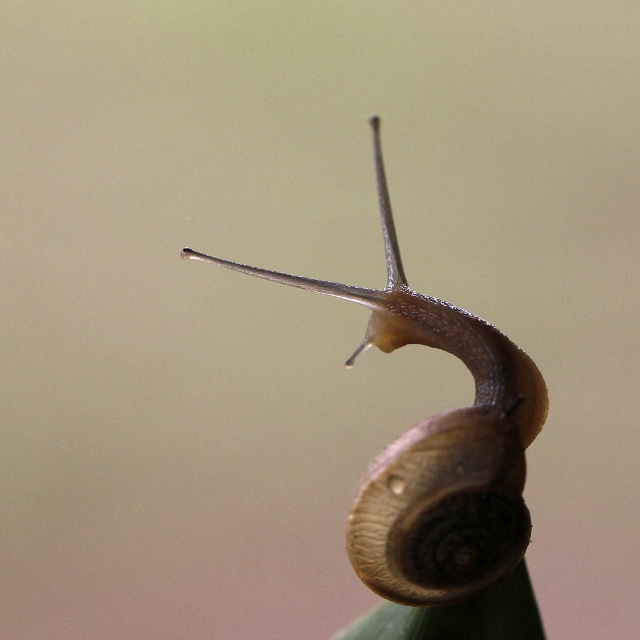Snail: (176, 114, 552, 640)
